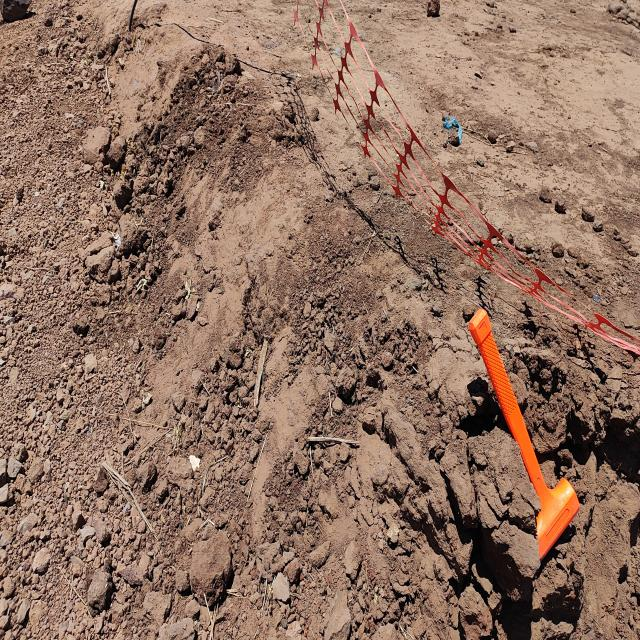Orange_hammer: (468, 306, 580, 562)
